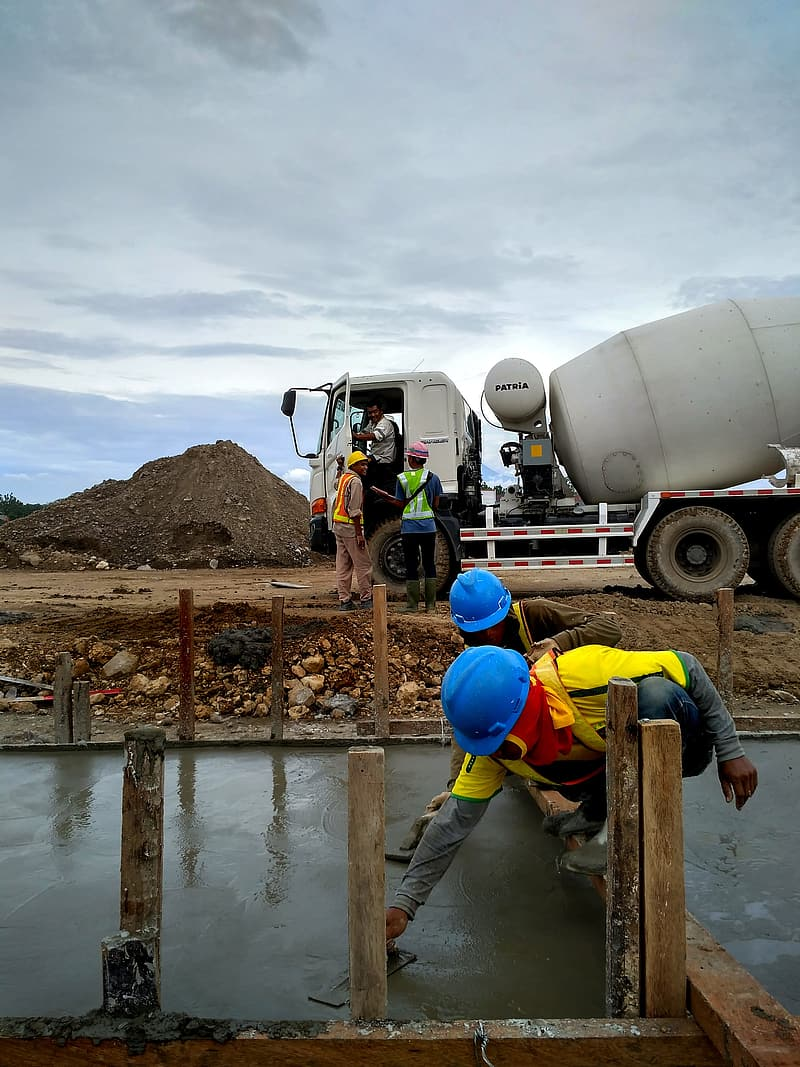Hard Hat: (434, 649, 536, 764), (449, 573, 512, 647), (405, 441, 429, 468), (347, 453, 370, 476)
Person: (385, 648, 655, 939), (448, 570, 623, 651), (398, 441, 438, 614), (332, 454, 376, 610), (354, 405, 398, 466)
Vest: (400, 456, 441, 521), (334, 460, 369, 527)
